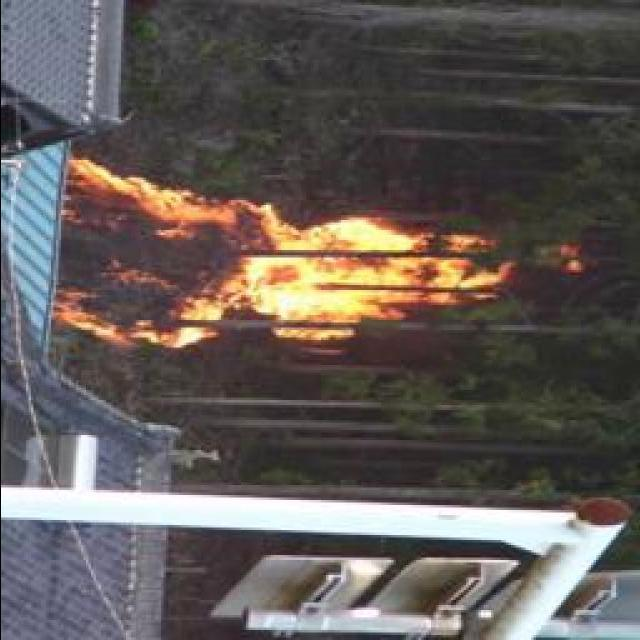Fire: (49, 156, 506, 352)
